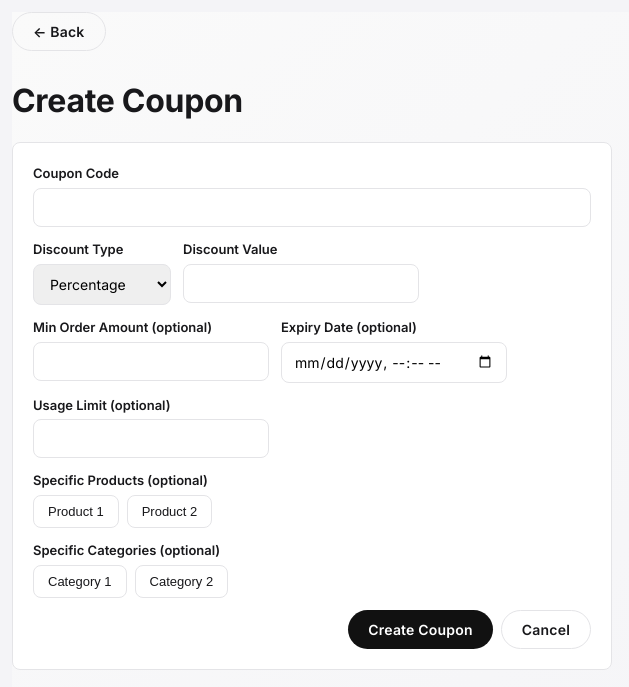
Scenario: AdminCouponForm › Create Mode › should disable button while creating
The image size is (629, 687).
In the field below "Coupon Code": (312, 208) [33, 188, 591, 227], type "SAVE10"
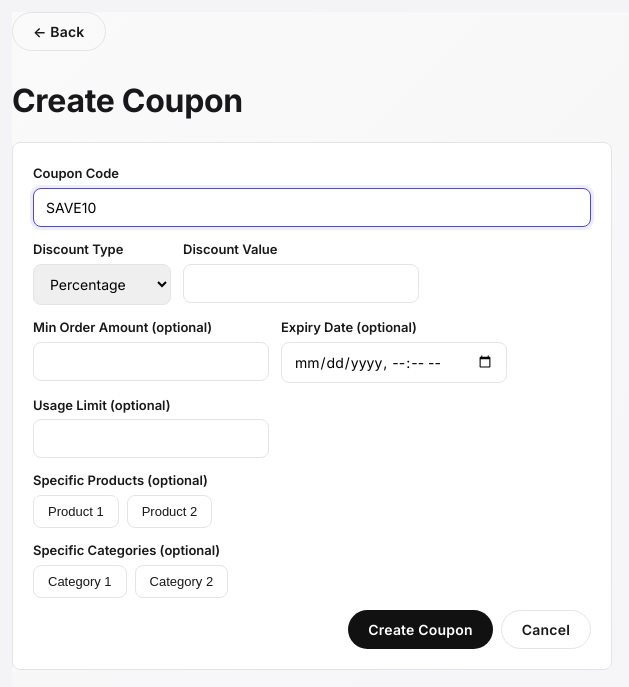
In the number field below "Discount Value": (301, 283) [183, 264, 419, 303], type "10"
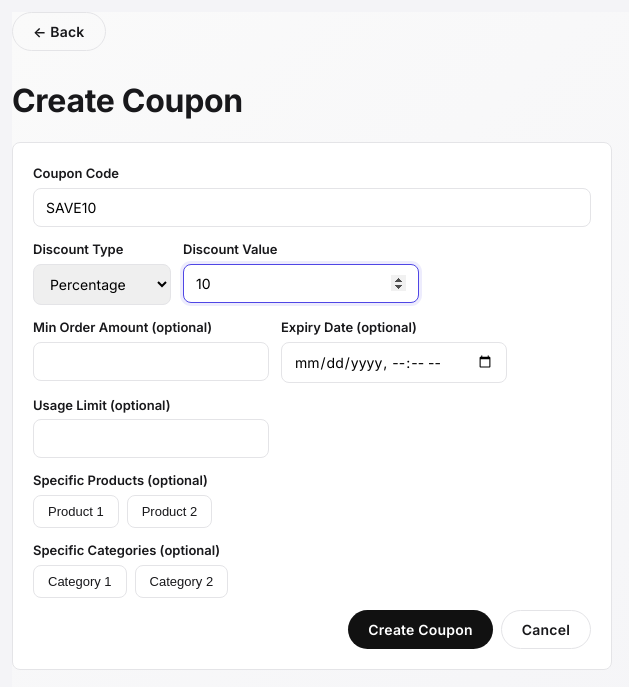
Click the button "Create Coupon": (421, 630) [348, 610, 493, 649]
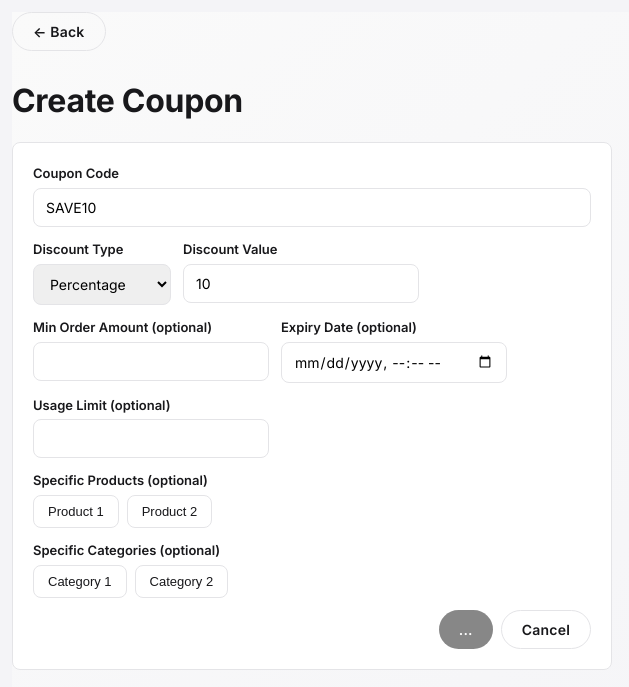
Expected: the button named "create coupon" is disabled, [439, 610, 493, 649]
